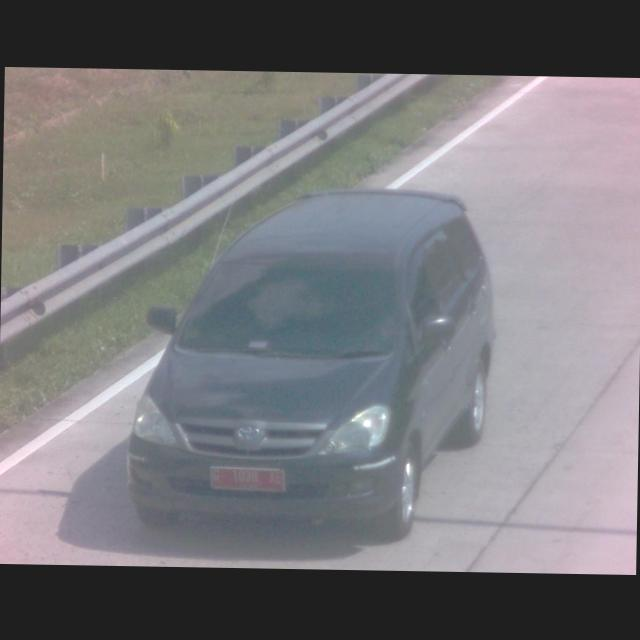plate: (209, 464, 287, 492)
